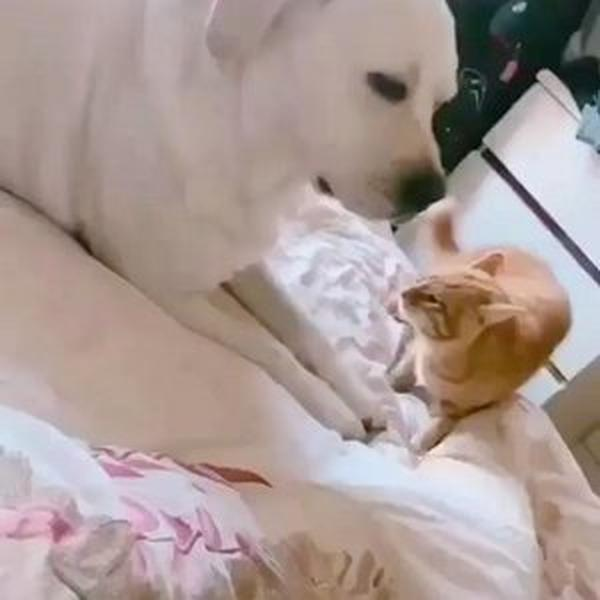michi: (369, 195, 582, 461)
